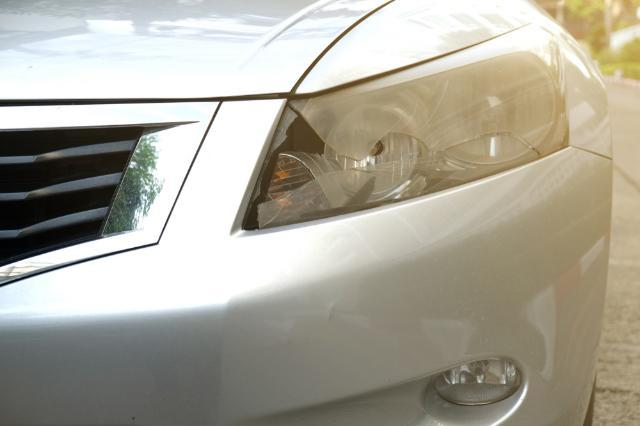lamp broken: (240, 28, 570, 233)
